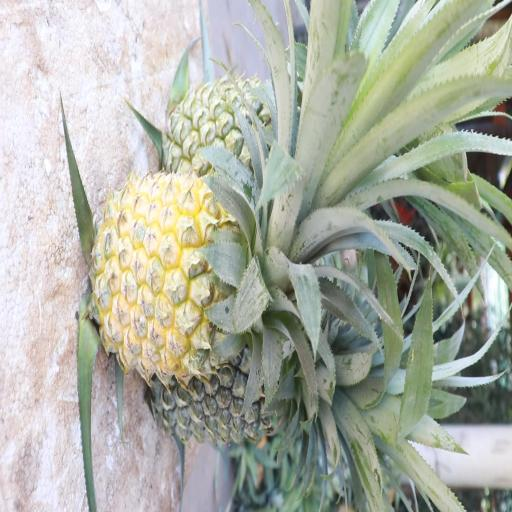------------------------------: (160, 60, 306, 186)
Pineapple - v8 v1: (90, 174, 288, 375)
